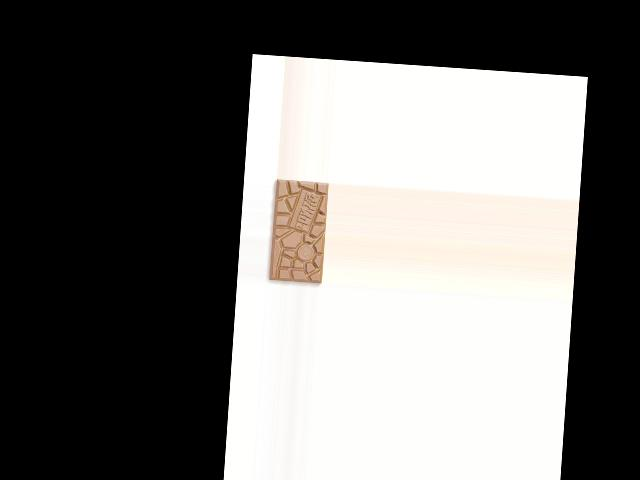chocolate: (266, 178, 328, 284)
